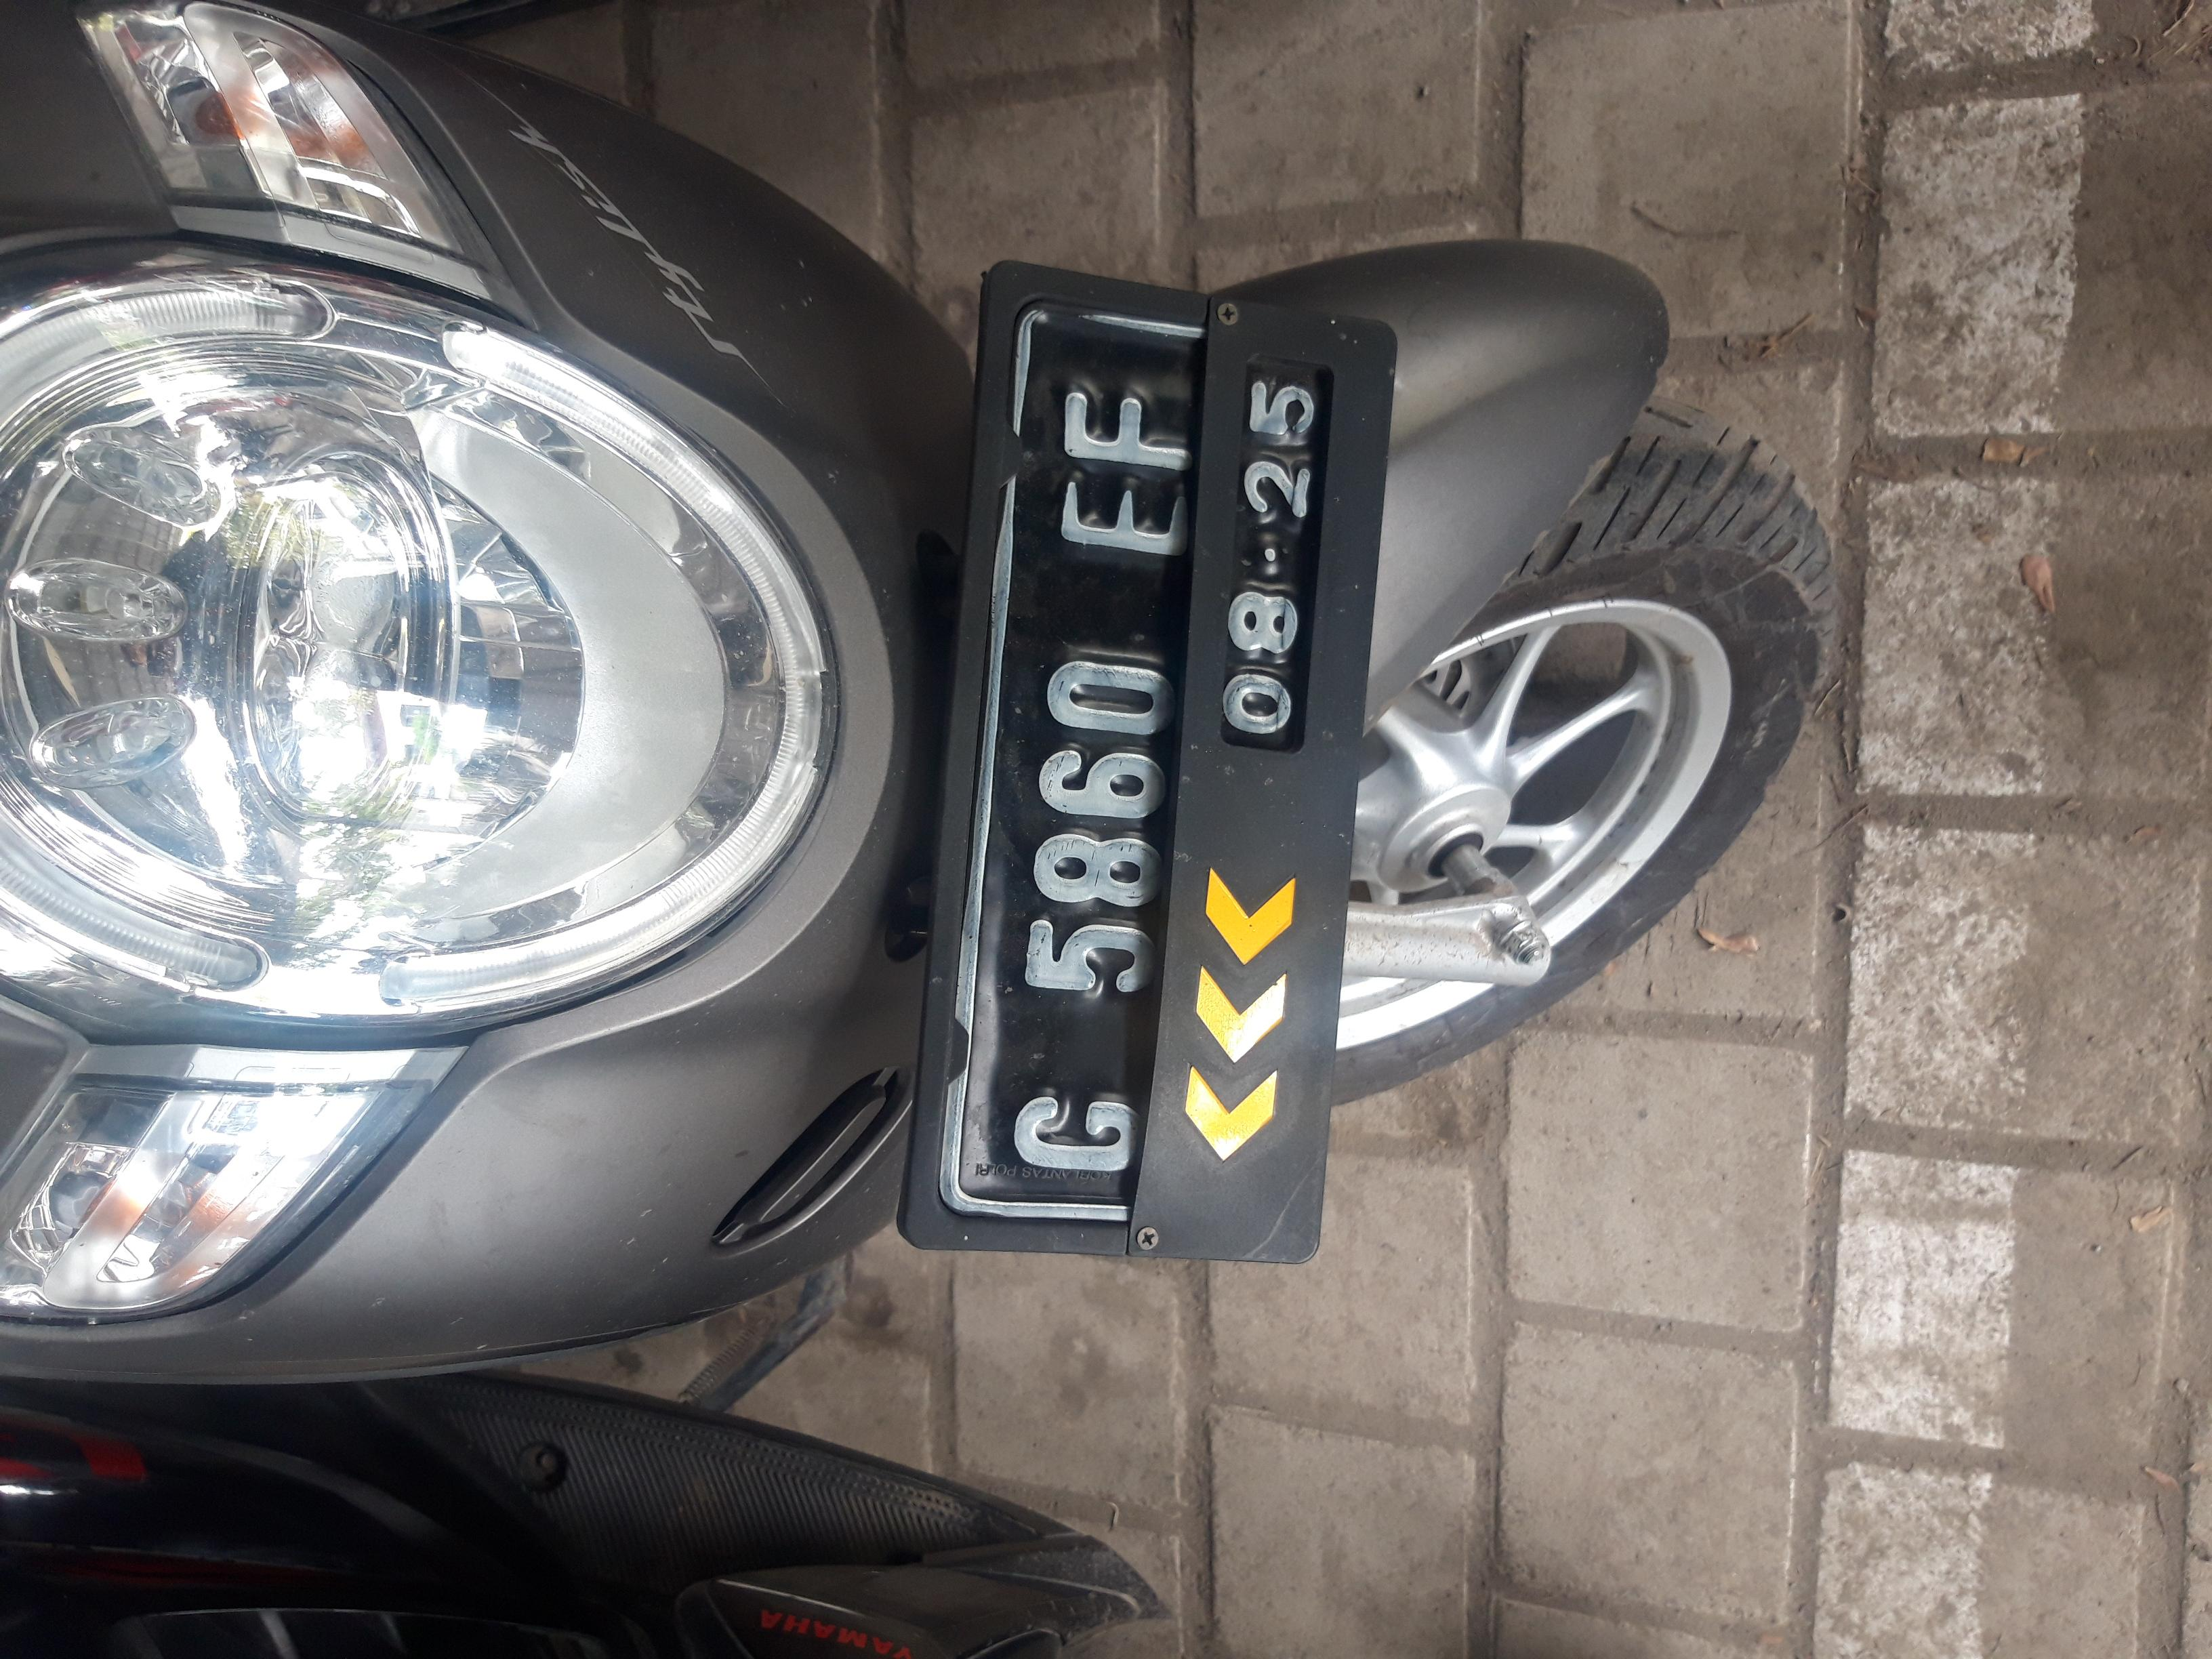plat: (529, 678, 1860, 1047)
